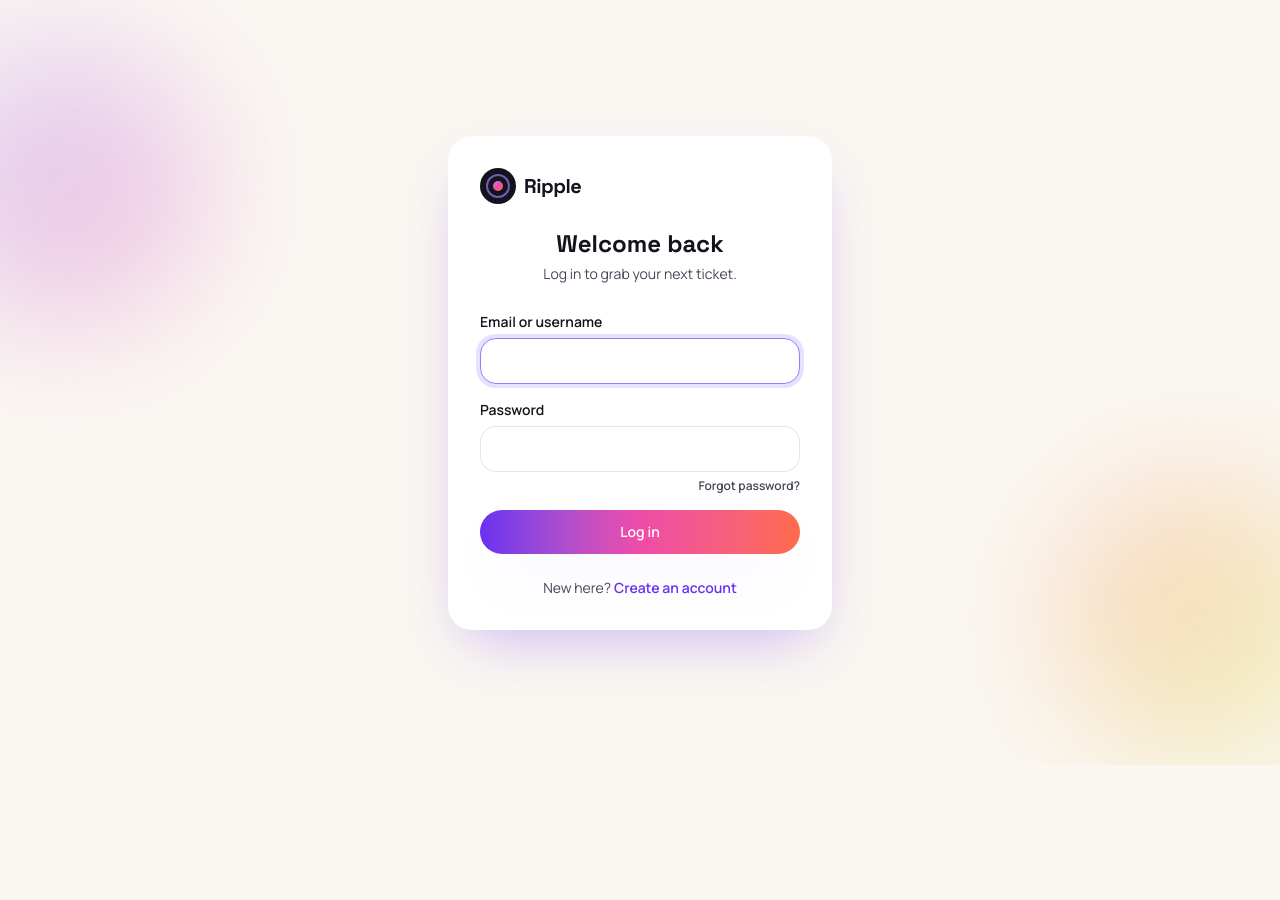
Login page › shows the server error message and does not navigate on failure
Type "alice" into the field labelled "Email or username" at (640,360), box x1=480 y1=338 x2=800 y2=384
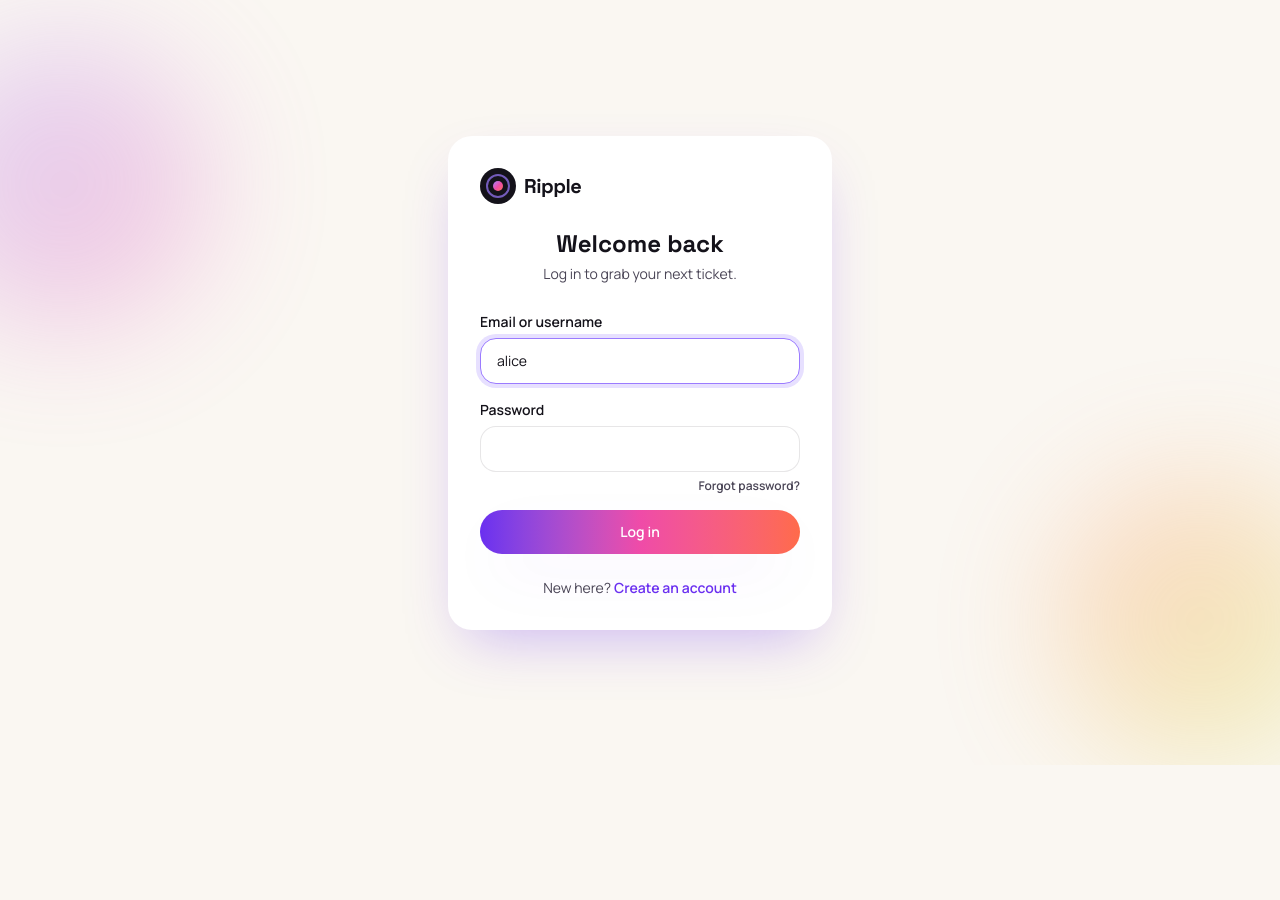
Type "wrong" into the password field labelled "Password" at (640,448), box x1=480 y1=426 x2=800 y2=472
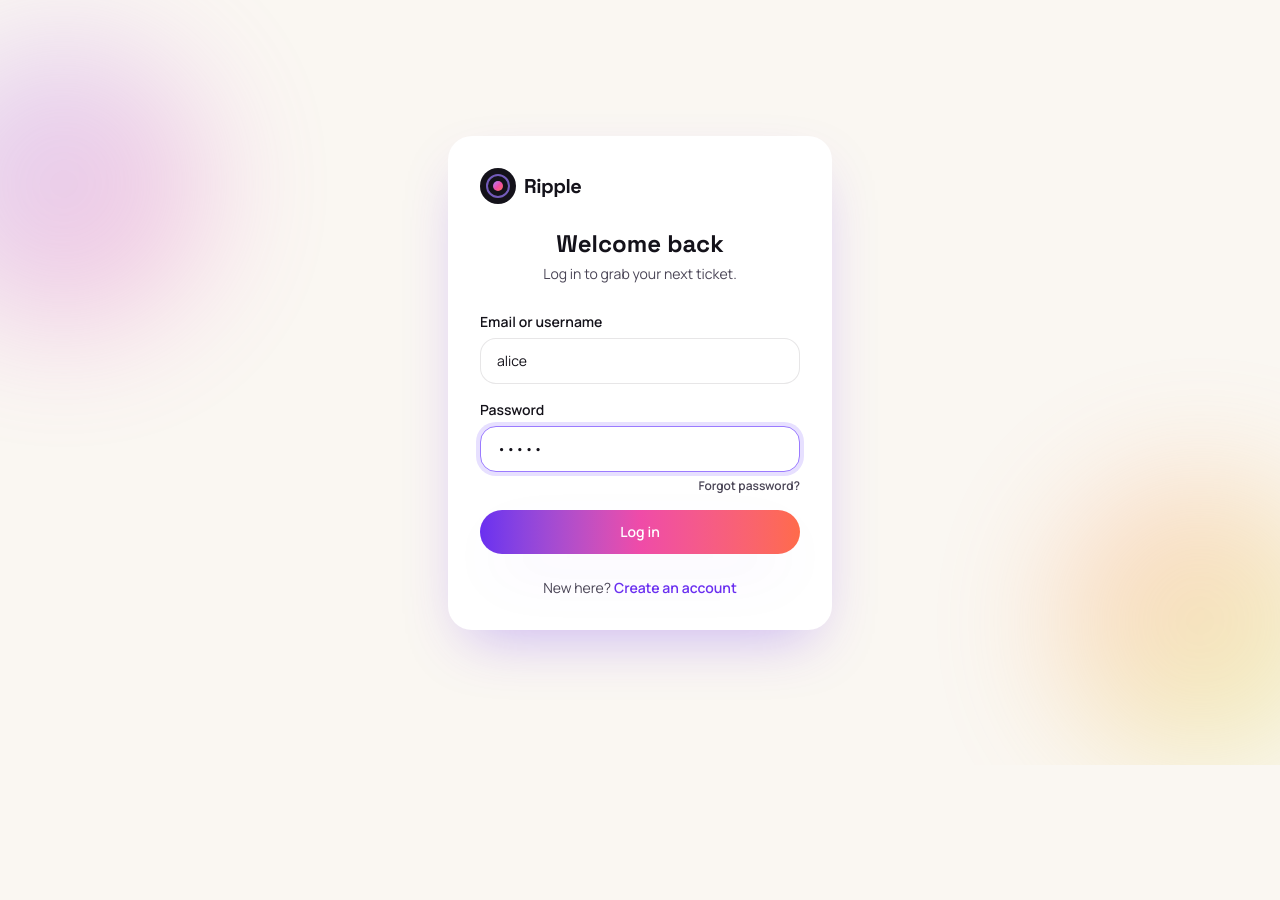
Click the button "Log in" at (640,532), box x1=480 y1=510 x2=800 y2=554
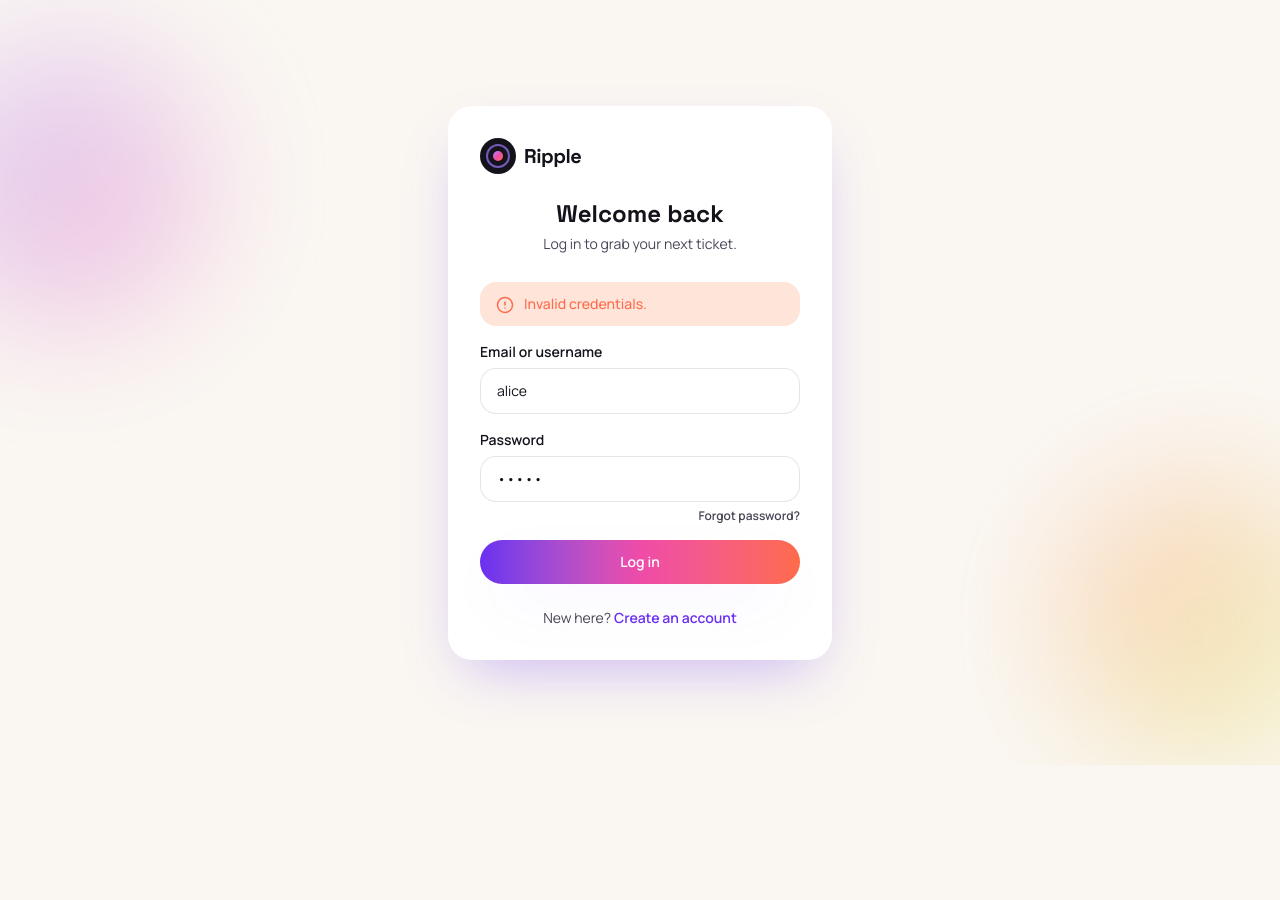
expect the text "Invalid credentials." is shown: met, box x1=524 y1=294 x2=647 y2=314
